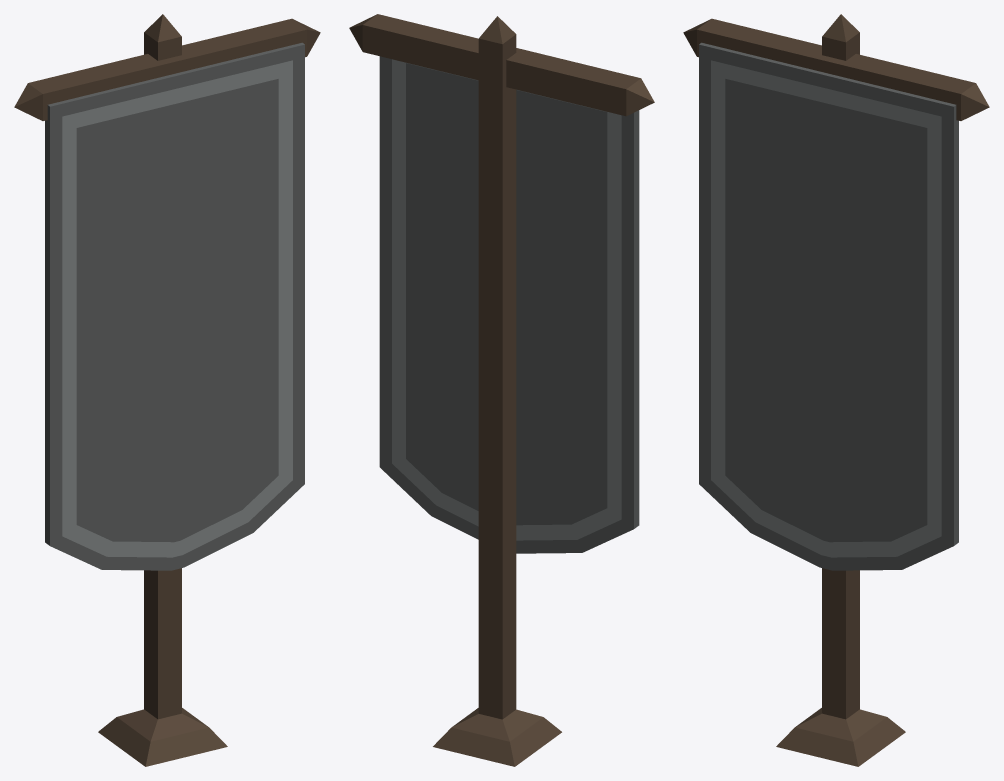
Rendered from Banner_4_Gray.fbx.
3 views of the same model, side by side, from view 1: azimuth 30°, elevation 25°; view 2: azimuth 150°, elevation 25°; view 3: azimuth 330°, elevation 25° (orthographic).
Parts seen in each view (by area): view 1: Banner_4_Gray_Part_2, Banner_4_Gray_Part_3, Banner_4_Gray_Part_1; view 2: Banner_4_Gray_Part_2, Banner_4_Gray_Part_1, Banner_4_Gray_Part_3; view 3: Banner_4_Gray_Part_2, Banner_4_Gray_Part_3, Banner_4_Gray_Part_1.
Part boxes in pixels (x1,y1,x2,y2): Banner_4_Gray_Part_2: (45, 42, 304, 570); Banner_4_Gray_Part_3: (62, 60, 292, 557); Banner_4_Gray_Part_1: (14, 14, 320, 766); Banner_4_Gray_Part_2: (379, 56, 639, 553); Banner_4_Gray_Part_1: (349, 14, 654, 766); Banner_4_Gray_Part_3: (392, 59, 621, 540); Banner_4_Gray_Part_2: (699, 42, 958, 570); Banner_4_Gray_Part_3: (711, 60, 941, 557); Banner_4_Gray_Part_1: (683, 14, 989, 766).
Size of the model in its own units: 120 by 272 by 32.4.
